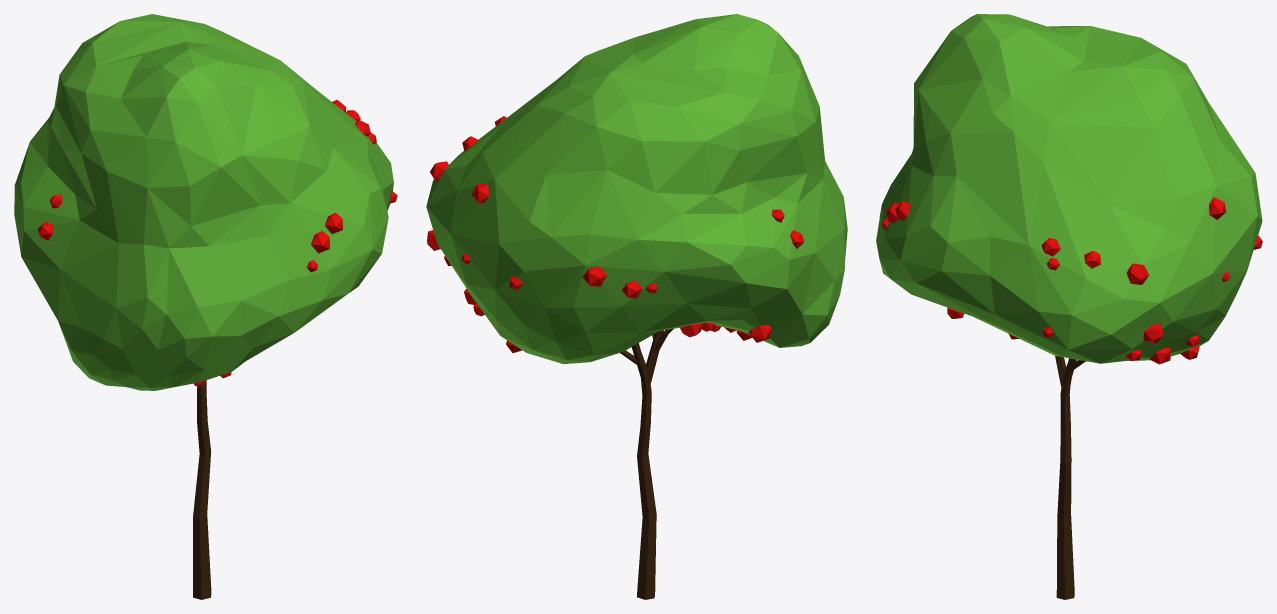
The model's file is Tree04_Apple01.fbx.
The picture shows the model from 3 angles, left to right: view 1: azimuth 30°, elevation 25°; view 2: azimuth 150°, elevation 25°; view 3: azimuth 270°, elevation 25°; orthographic projection. The views are drawn at different scales.
Visible parts, largest first — view 1: FruitTree02; view 2: FruitTree02; view 3: FruitTree02.
Boxes of the visible parts, bbox=[...] form: FruitTree02: bbox=[14, 14, 397, 599]; FruitTree02: bbox=[426, 14, 847, 599]; FruitTree02: bbox=[876, 14, 1262, 599].
Size of what is drawn, in the model's own units: 763 by 1161 by 735.
